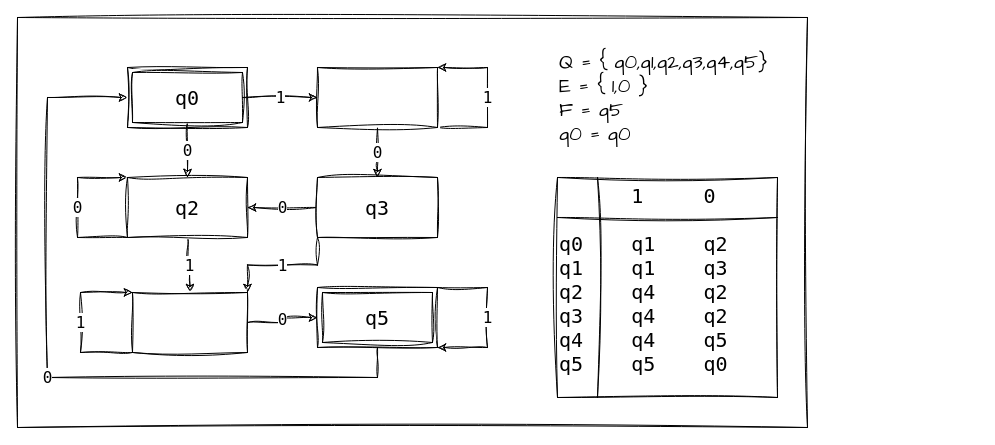
Some shapes in this 995 by 445 pixel diagram are drawn without their labels. Each missing label, with the centre of its shape:
"q1" belongs at (x=377, y=97).
"q4" belongs at (x=190, y=322).
